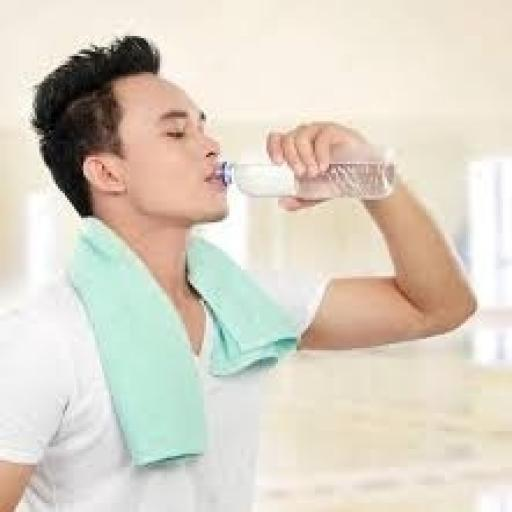drinking: (0, 23, 396, 368)
